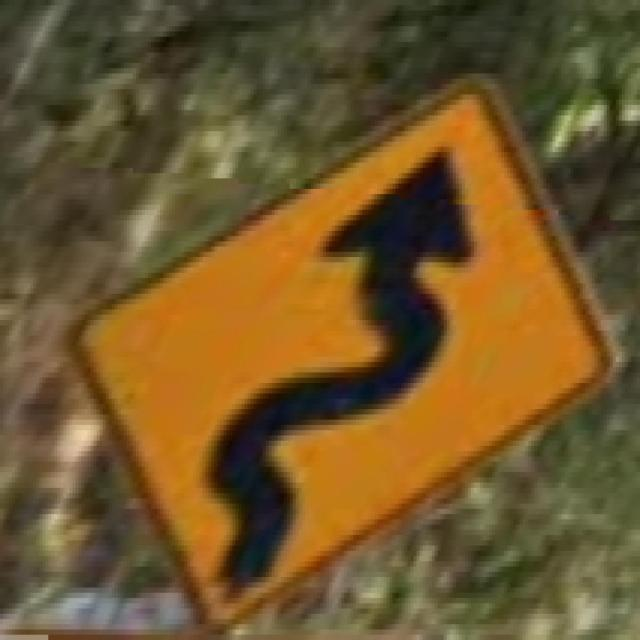Banyak Tikungan Pertama Kiri: (60, 47, 622, 635)
